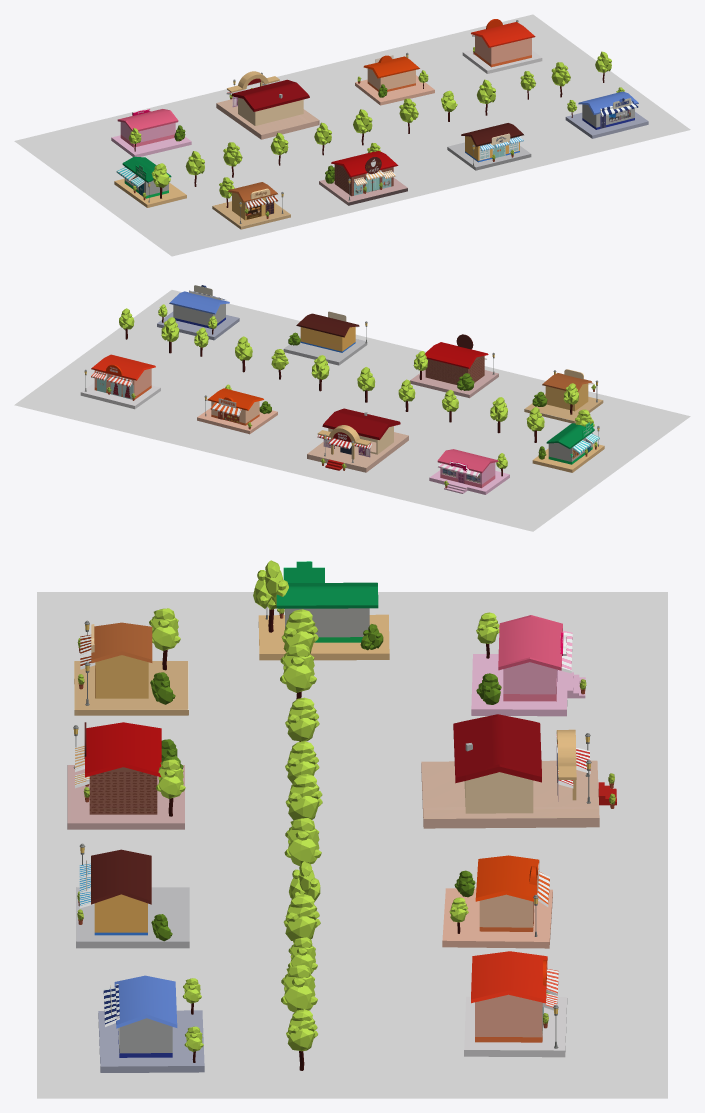
The model's file is mall.glb.
The picture shows the model from 3 angles, top to bottom: view 1: azimuth 30°, elevation 25°; view 2: azimuth 150°, elevation 25°; view 3: azimuth 270°, elevation 25°; orthographic projection. The views are drawn at different scales.
Visible parts, largest first — view 1: Plano, Box091, Box027, Box082, Box075, Box010, Box058, Box096, Box035, Box073, Box043, Box002 (+11 smaller); view 2: Plano, Box082, Box058, Box091, Box075, Box096, Box035, Box010, Box027, Box002, Box080, Box057 (+11 smaller); view 3: Plano, Box091, Box096, Box082, Box058, Box075, Box035, Box027, Box010, Box002, Box043, Box009 (+22 smaller).
Part boxes in pixels (x1,y1,x2,y2): Plano: (14, 14, 690, 256); Box091: (231, 79, 309, 125); Box027: (355, 55, 434, 105); Box082: (319, 151, 407, 205); Box075: (462, 22, 542, 73); Box010: (117, 109, 178, 147); Box058: (447, 123, 531, 170); Box096: (216, 99, 319, 139); Box035: (565, 91, 648, 138); Box073: (475, 35, 531, 67); Box043: (212, 201, 290, 229); Box002: (122, 156, 171, 198); Plano: (14, 290, 690, 531); Box082: (410, 342, 498, 398); Box058: (283, 313, 367, 365); Box091: (322, 408, 400, 454); Box075: (80, 354, 160, 409); Box096: (307, 432, 408, 472); Box035: (157, 291, 239, 340); Box010: (437, 449, 498, 488); Box027: (197, 388, 277, 434); Box002: (546, 423, 594, 464); Box080: (425, 356, 484, 384); Box057: (300, 327, 355, 352); Plano: (37, 592, 667, 1098); Box091: (453, 714, 541, 813); Box096: (421, 760, 616, 828); Box082: (67, 722, 184, 829); Box058: (76, 849, 189, 948); Box075: (464, 951, 567, 1057); Box035: (98, 975, 204, 1072); Box027: (442, 855, 552, 948); Box010: (498, 615, 562, 701); Box002: (276, 582, 378, 642); Box043: (74, 661, 188, 715); Box009: (471, 654, 585, 716).
Bounding box in the file's own units: 7.48 × 0.5314 × 3.94.
58 materials, 56 textured.
